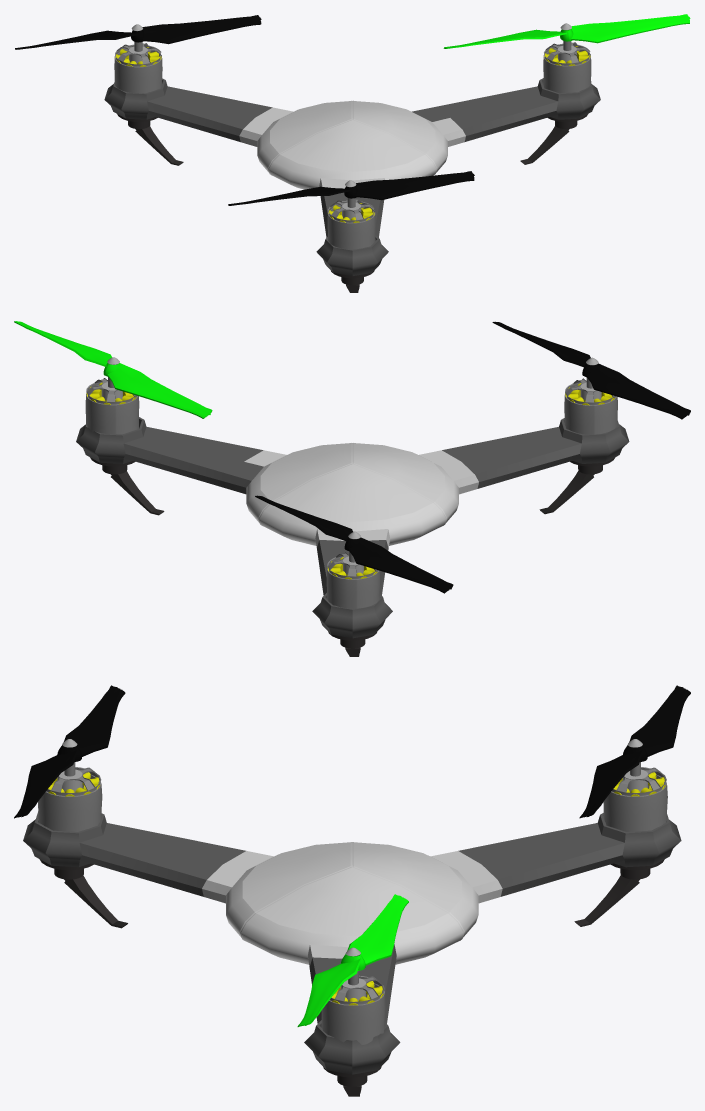
Rendered from uav3.fbx.
3 renders of one model, top to bottom at view 1: azimuth 30°, elevation 25°; view 2: azimuth 150°, elevation 25°; view 3: azimuth 270°, elevation 25°, orthographic. The views are drawn at different scales.
Parts seen in each view (by area): view 1: pCylinder57, polySurface55, polySurface54, polySurface52, pCylinder54, pCylinder53, pCylinder55; view 2: pCylinder57, polySurface54, polySurface55, polySurface52, pCylinder54, pCylinder53, pCylinder55; view 3: pCylinder57, polySurface52, polySurface55, polySurface54, pCylinder54, pCylinder53, pCylinder55.
Boxes of the visible parts, x1=… form: pCylinder57: x1=104, y1=78, x2=600, y2=292; polySurface55: x1=443, y1=14, x2=690, y2=48; polySurface54: x1=228, y1=171, x2=474, y2=205; polySurface52: x1=15, y1=15, x2=261, y2=49; pCylinder54: x1=543, y1=41, x2=591, y2=93; pCylinder53: x1=327, y1=198, x2=375, y2=249; pCylinder55: x1=114, y1=41, x2=162, y2=93; pCylinder57: x1=76, y1=417, x2=629, y2=656; polySurface54: x1=492, y1=321, x2=690, y2=419; polySurface55: x1=14, y1=321, x2=212, y2=418; polySurface52: x1=255, y1=495, x2=453, y2=593; pCylinder54: x1=85, y1=377, x2=139, y2=434; pCylinder53: x1=564, y1=377, x2=617, y2=434; pCylinder55: x1=326, y1=551, x2=380, y2=608; pCylinder57: x1=23, y1=811, x2=681, y2=1096; polySurface52: x1=579, y1=685, x2=690, y2=818; polySurface55: x1=297, y1=894, x2=408, y2=1026; polySurface54: x1=14, y1=685, x2=125, y2=818; pCylinder54: x1=321, y1=971, x2=385, y2=1045; pCylinder53: x1=38, y1=762, x2=102, y2=831; pCylinder55: x1=603, y1=762, x2=667, y2=831.
Size of the model in its own units: 27.28 by 6.34 by 22.62.
